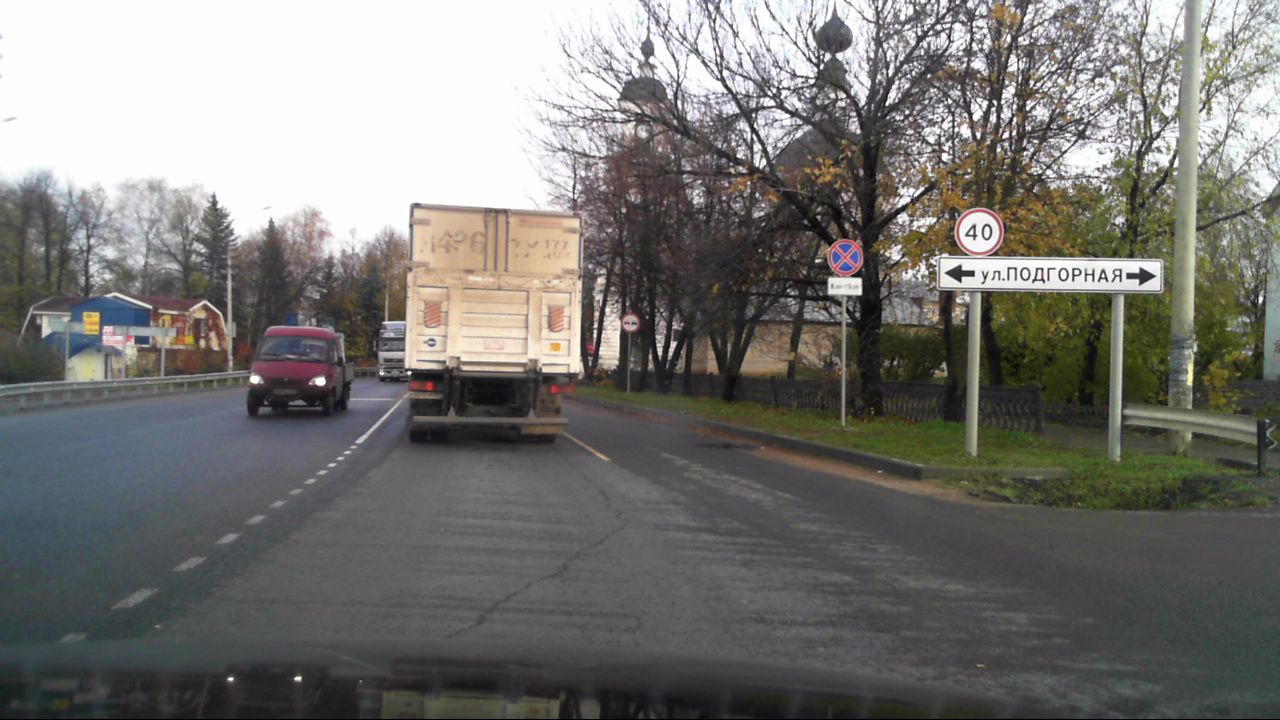No Parking: (826, 238, 864, 277)
speed_warning_40: (954, 207, 1004, 257)
